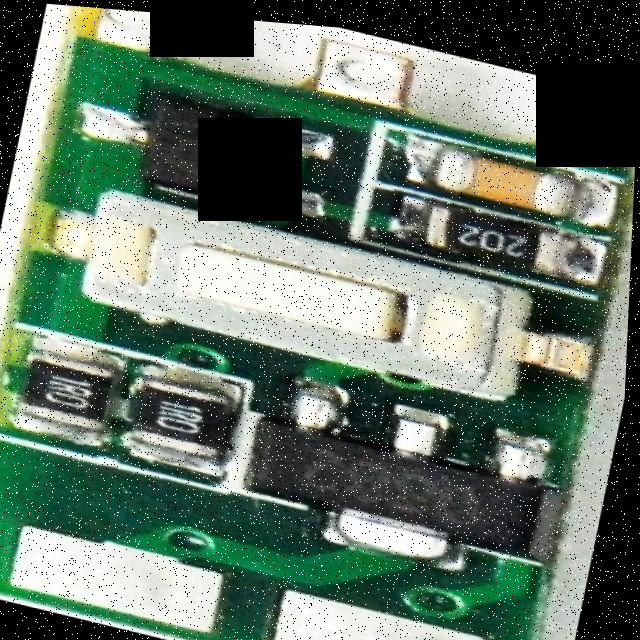2235: (67, 187, 518, 397)
4439: (102, 76, 317, 214)
IC: (234, 379, 560, 562)
capacitor 1V5: (435, 140, 568, 208)
resistor IR1: (402, 191, 602, 273), (13, 346, 127, 435), (137, 375, 230, 459)
